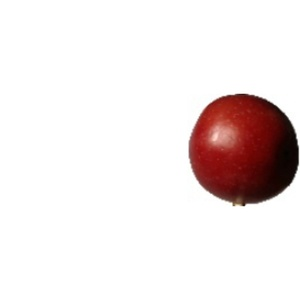maçã braeburn: (187, 93, 300, 200)
